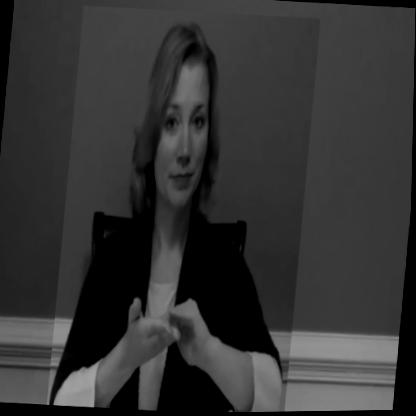ExcuseMe: (49, 2, 321, 415)
